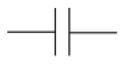Capacitor: (45, 6, 79, 57)
